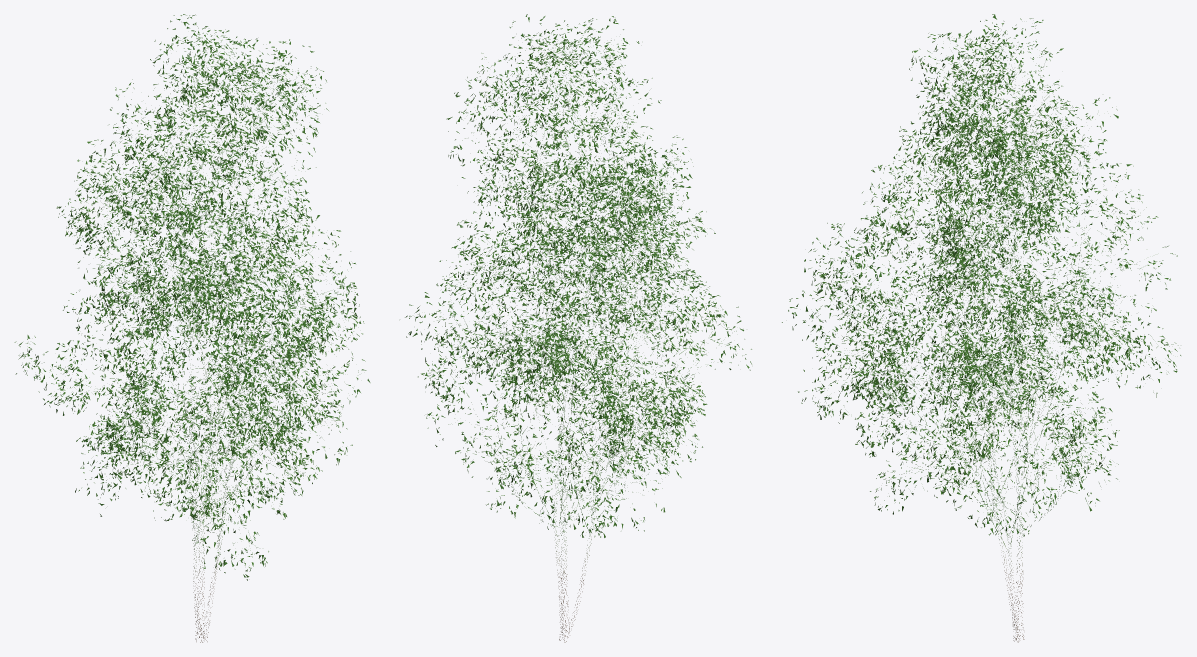
Rendered from acer.glb.
The picture shows the model from 3 angles, left to right: view 1: azimuth 30°, elevation 25°; view 2: azimuth 150°, elevation 25°; view 3: azimuth 270°, elevation 25°; orthographic projection. The views are drawn at different scales.
Size of the model in its own units: 0.4995 by 1 by 0.5872.
